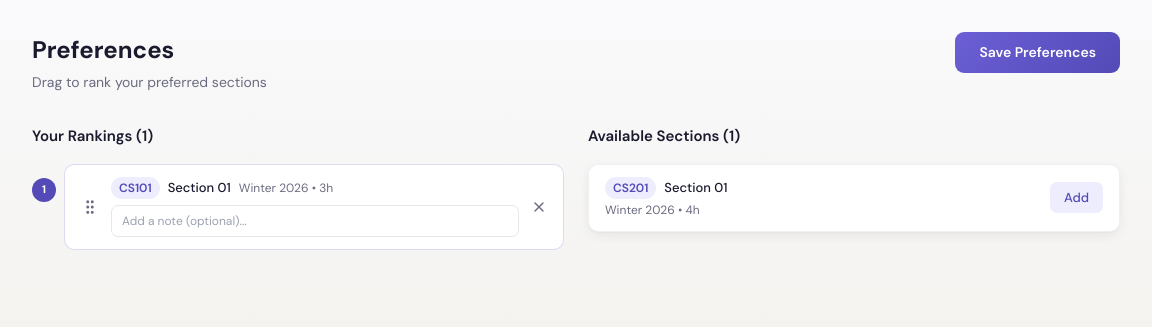
Scenario: InstructorPreferences › moves a section back to available when removed from rankings
The image size is (1152, 327).
Check: the heading "Your Rankings (1)" is shown, box [32,126,153,146]
Click the button named "Remove CS101 section 01" at (539, 206), box [531,198,547,214]
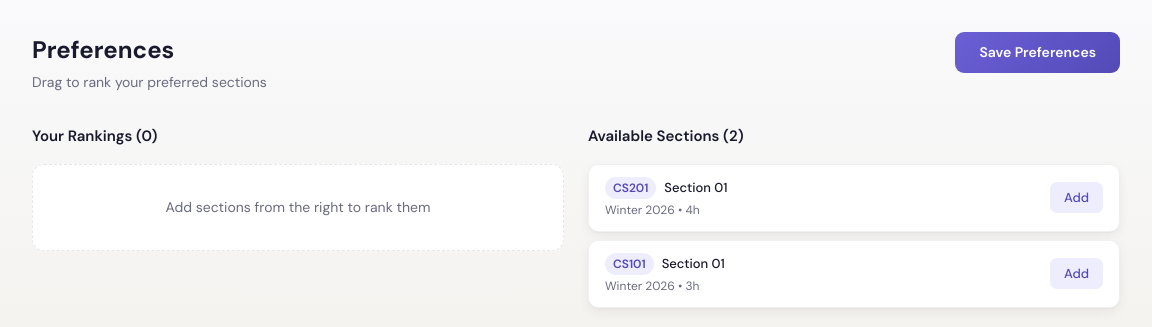
Check: the heading "Your Rankings (0)" is shown, box [32,126,157,146]
Check: the heading "Available Sections (2)" is shown, box [588,126,744,146]
